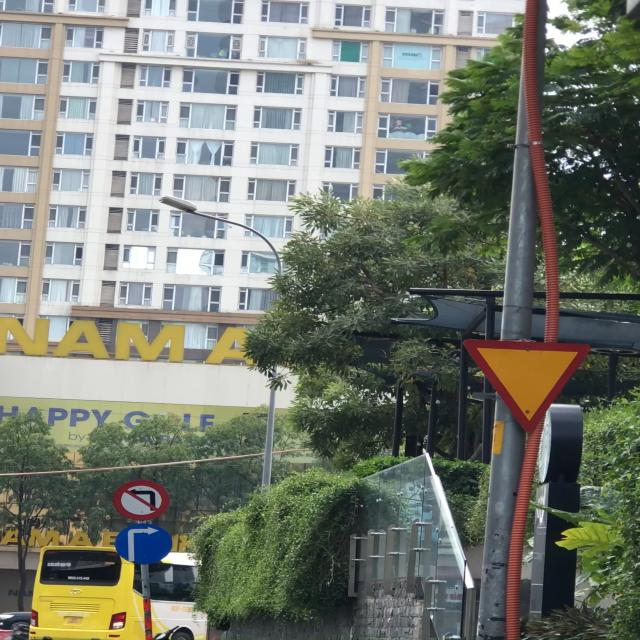Bien bao cam re trai: (111, 480, 172, 521)
Bien bao giao nhau voi duong uu tien: (458, 332, 596, 436)
Bien bao huong di phai theo: (111, 520, 172, 566)
